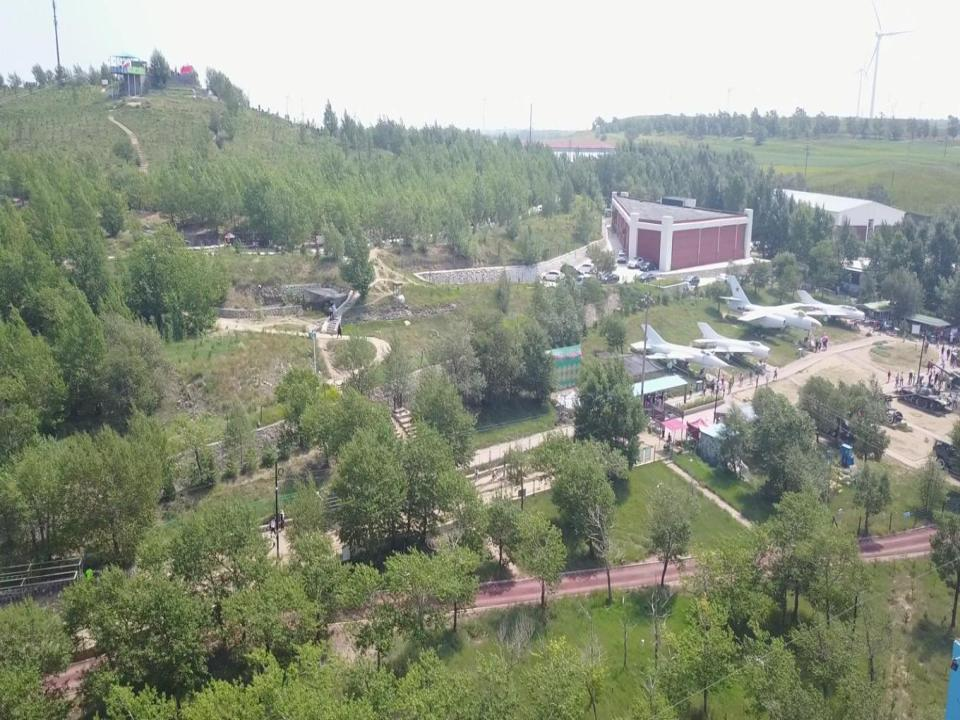car: (539, 268, 564, 282), (574, 263, 596, 274), (600, 272, 620, 284), (636, 271, 656, 282), (574, 275, 592, 287), (640, 260, 657, 271), (682, 274, 699, 285), (628, 257, 644, 268), (616, 252, 626, 264), (617, 248, 626, 256)
